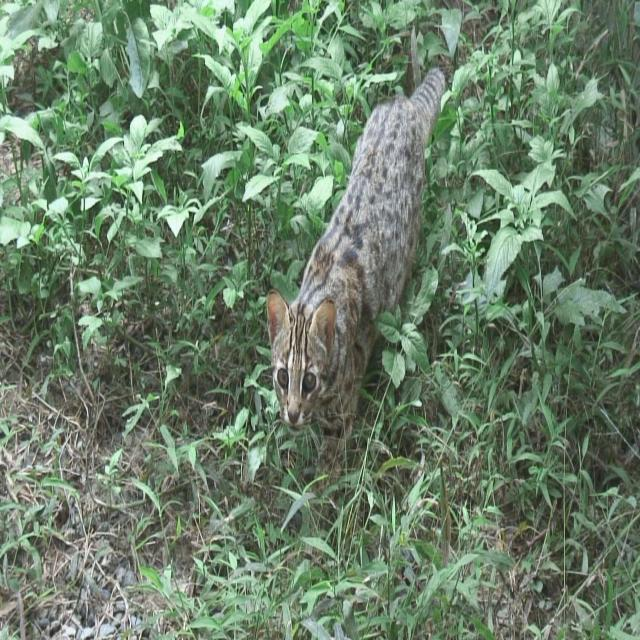leopard: (263, 274, 359, 462), (370, 116, 416, 286)
